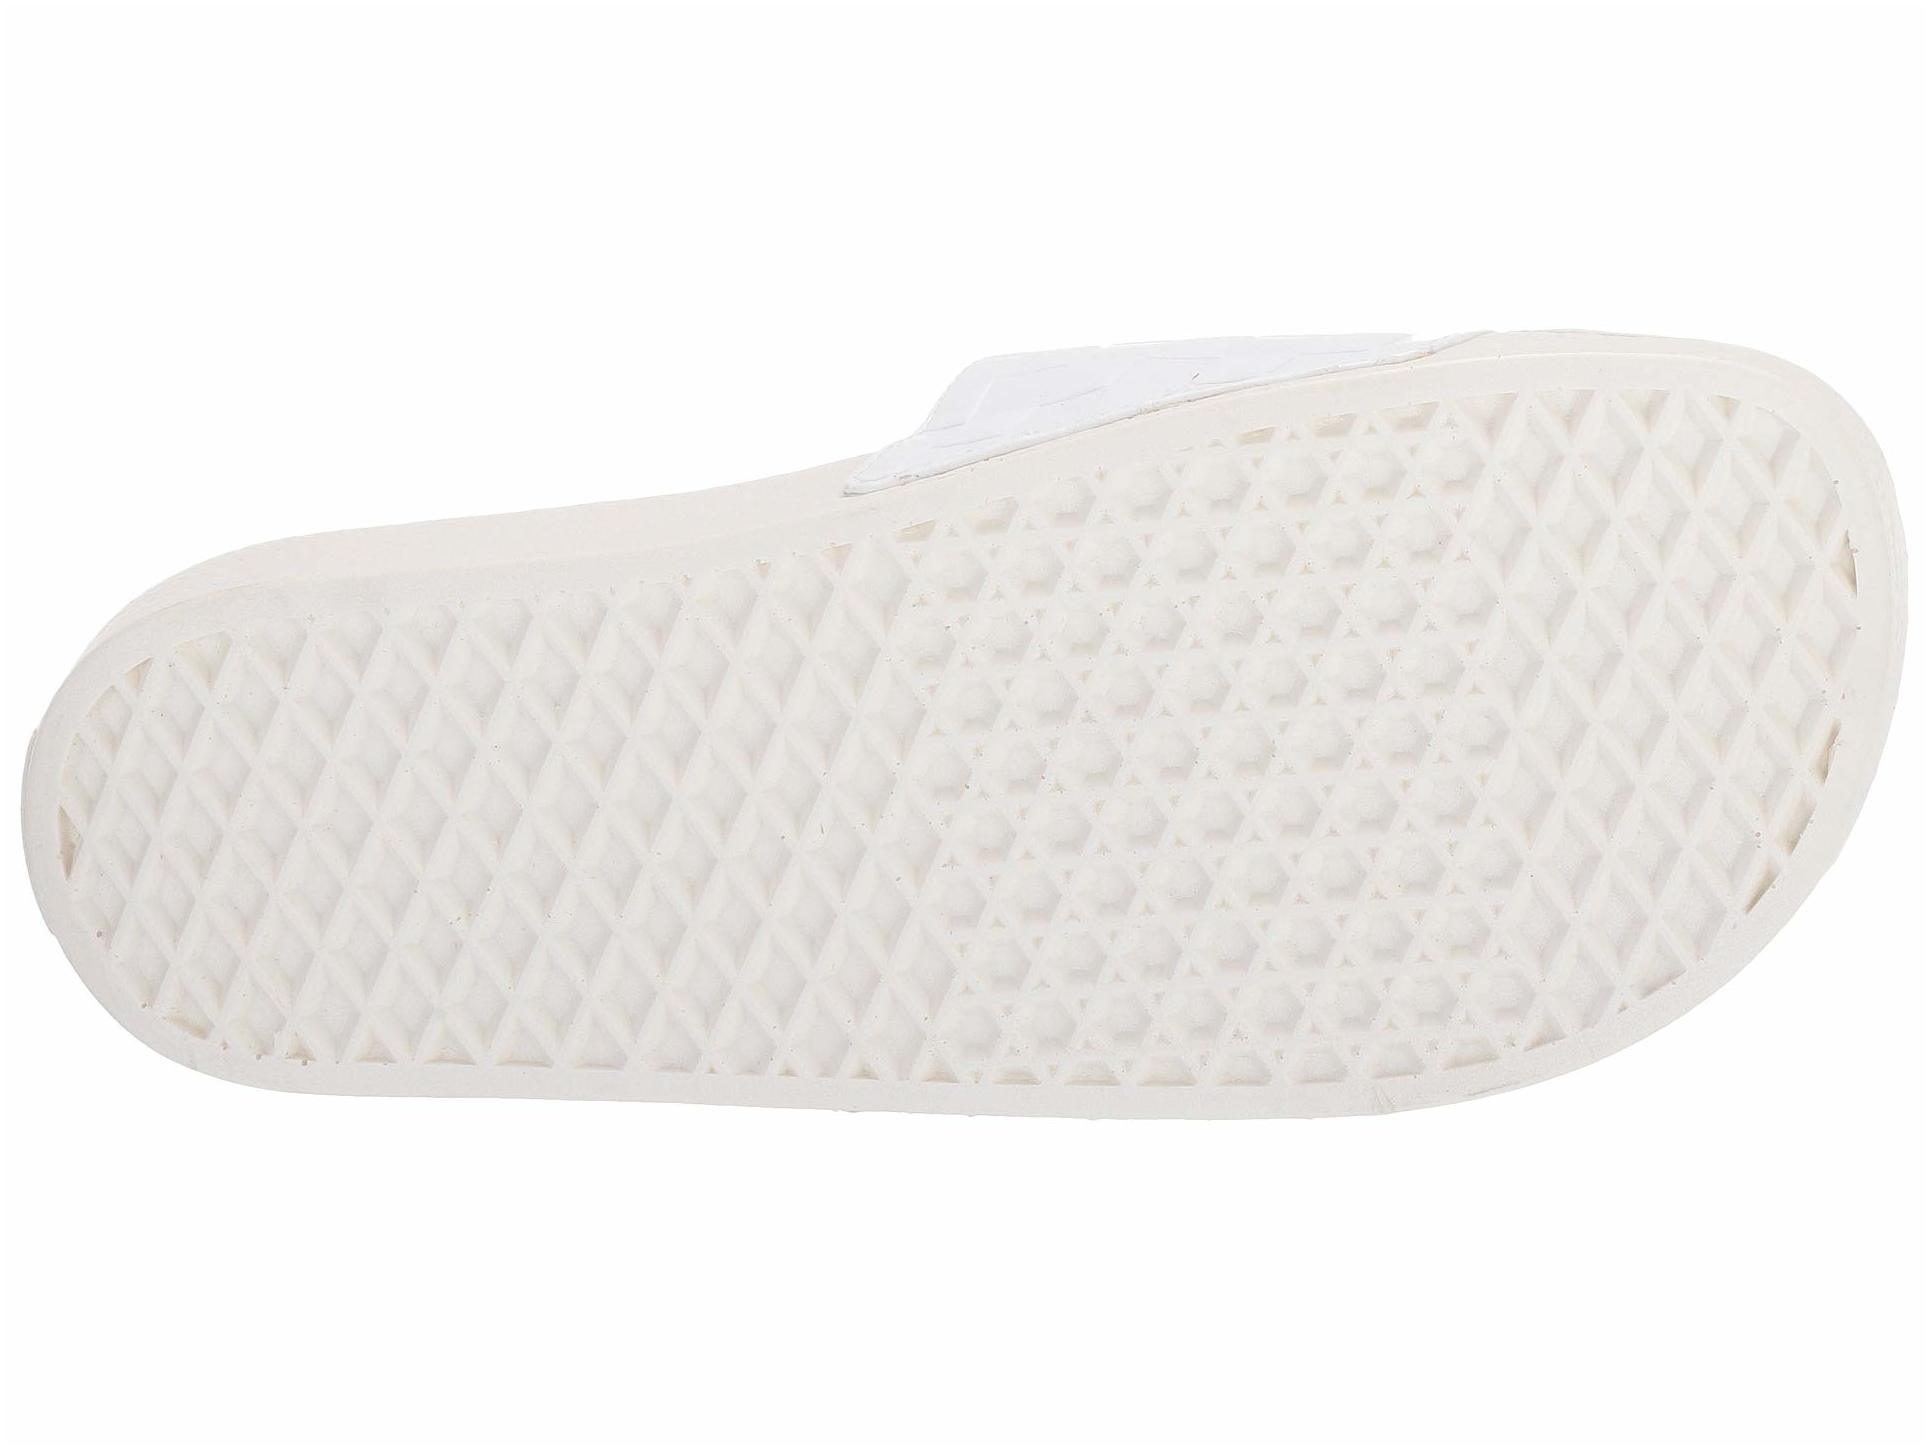polygon: (1083, 524, 1446, 883)
quad: (370, 658, 784, 1054), (1523, 458, 1804, 717)
star: (1083, 524, 1446, 883)
triangle: (1083, 524, 1446, 883)
